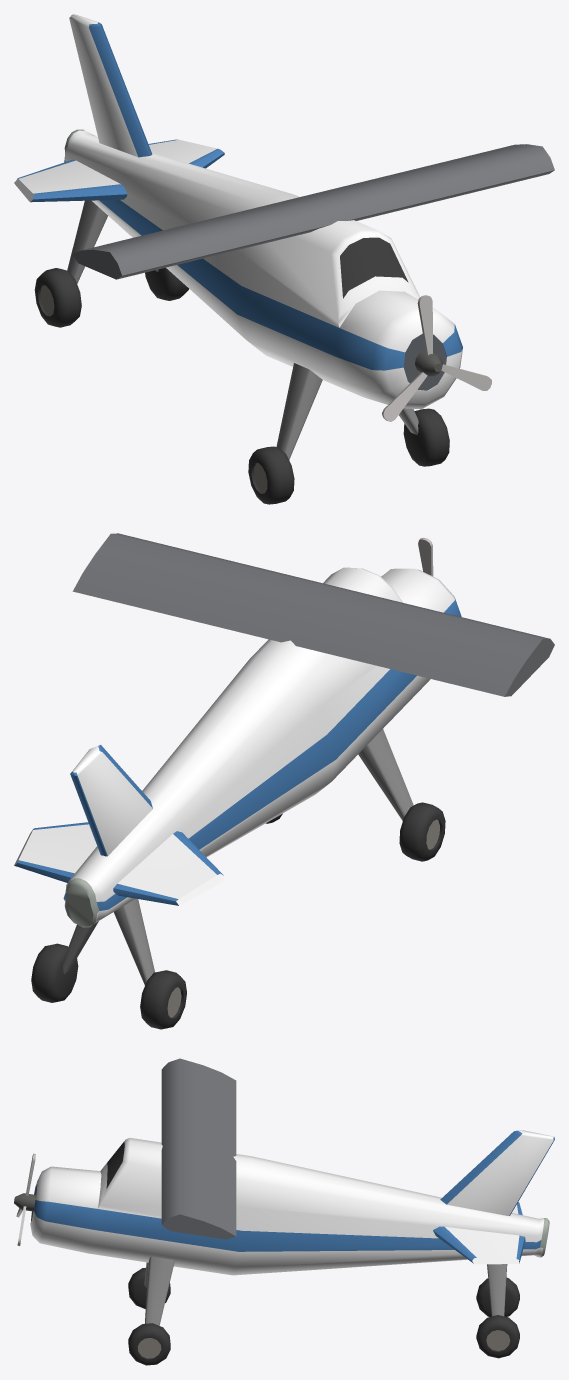
File: Aircraft_1.fbx
The picture shows the model from 3 angles, top to bottom: view 1: azimuth 30°, elevation 25°; view 2: azimuth 150°, elevation 25°; view 3: azimuth 270°, elevation 25°; orthographic projection. The views are drawn at different scales.
Parts seen in each view (by area): view 1: Aircraft_1; view 2: Aircraft_1; view 3: Aircraft_1.
Boxes of the visible parts, left/top/right/bottom form: Aircraft_1: left=14, top=14, right=554, bottom=504; Aircraft_1: left=14, top=533, right=554, bottom=1029; Aircraft_1: left=14, top=1058, right=554, bottom=1365.
Bounding box in the file's own units: 796 × 489 × 1168.
